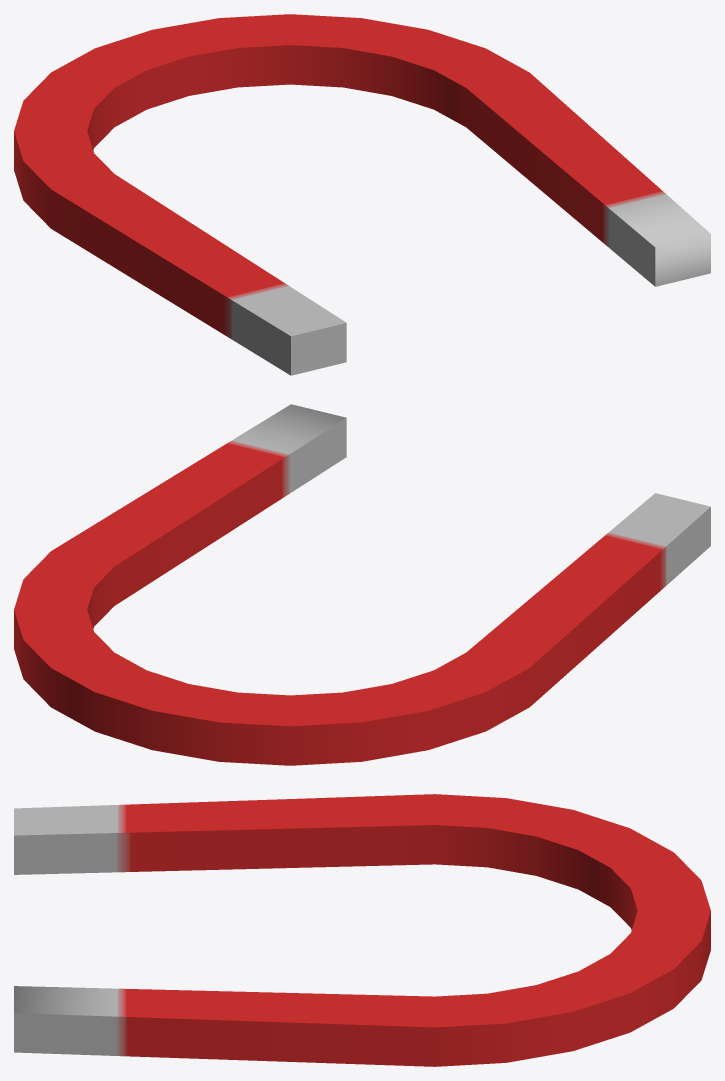
Rendered from Magnet.obj.
3 renders of one model, top to bottom at view 1: azimuth 30°, elevation 25°; view 2: azimuth 150°, elevation 25°; view 3: azimuth 270°, elevation 25°, orthographic.
Parts seen in each view (by area): view 1: Cylinder_Cylinder.001; view 2: Cylinder_Cylinder.001; view 3: Cylinder_Cylinder.001.
Part boxes in pixels (x1,y1,x2,y2): Cylinder_Cylinder.001: [14, 14, 710, 375]; Cylinder_Cylinder.001: [14, 404, 710, 765]; Cylinder_Cylinder.001: [14, 794, 710, 1066].
Bounding box in the file's own units: 0.1582 × 0.0125 × 0.1997.
Materials: 1 (1 with a texture image).
